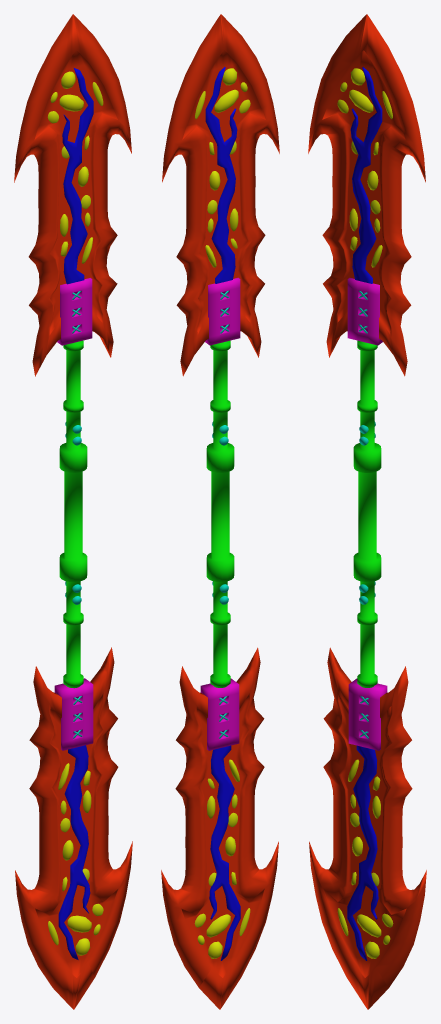
File: Blade.fbx
The picture shows the model from 3 angles, left to right: view 1: azimuth 30°, elevation 25°; view 2: azimuth 210°, elevation 25°; view 3: azimuth 330°, elevation 25°; orthographic projection.
Visible parts, largest first — view 1: sword_low; view 2: sword_low; view 3: sword_low.
Boxes of the visible parts, x1=… form: sword_low: x1=14, y1=14, x2=132, y2=1009; sword_low: x1=161, y1=14, x2=279, y2=1009; sword_low: x1=308, y1=14, x2=426, y2=1009.
Bounding box in the file's own units: 257 × 2058 × 51.8.
